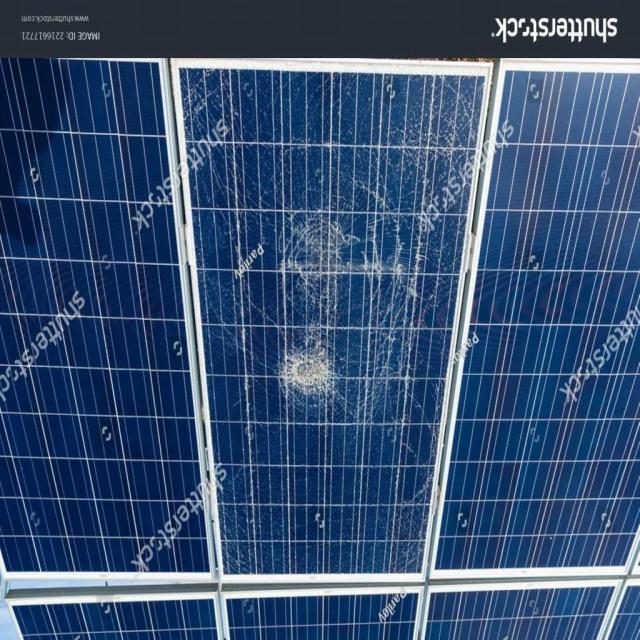cracked: (174, 56, 486, 582)
